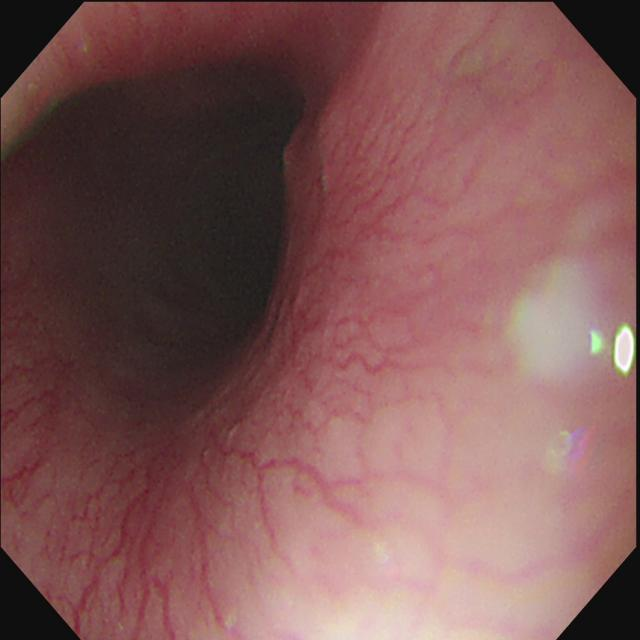E: (100, 89, 278, 280)
U: (615, 326, 635, 378)
